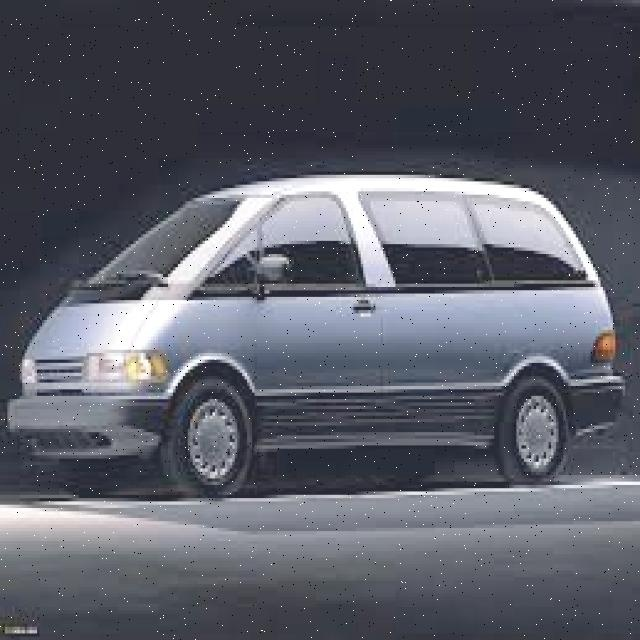Van: (5, 175, 628, 495)
